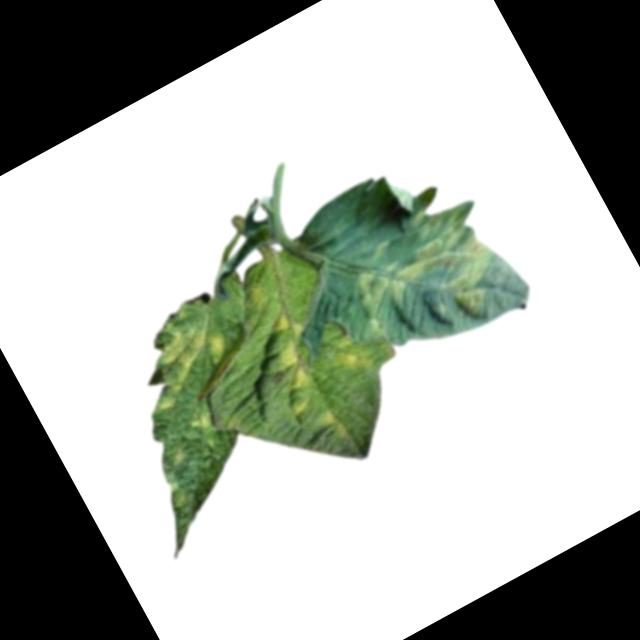Leaf_Mold: (332, 191, 514, 360), (131, 312, 243, 415), (250, 311, 334, 413), (322, 326, 377, 384), (313, 405, 352, 447), (185, 401, 219, 439)
